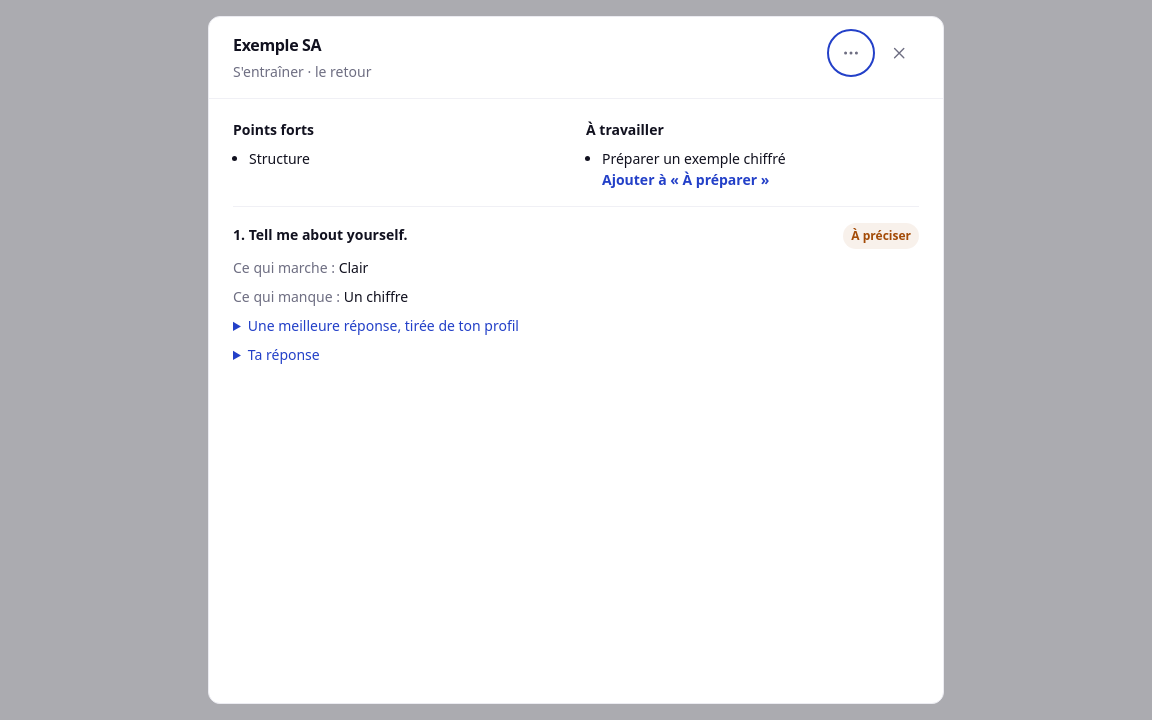
Test: InterviewPractice › le retour : repères, meilleure réponse, « Ajouter à À préparer »
The width and height of the screenshot is (1152, 720).
Expected: the element with test id "practice-question" shows "1. Tell me about yourself.", [233,225,408,244]
Expected: the text with test id "practice-level" reads "À préciser", [851,227,911,244]
Click the button with test id "practice-add-prepare": [686, 180] box [602,169,769,190]
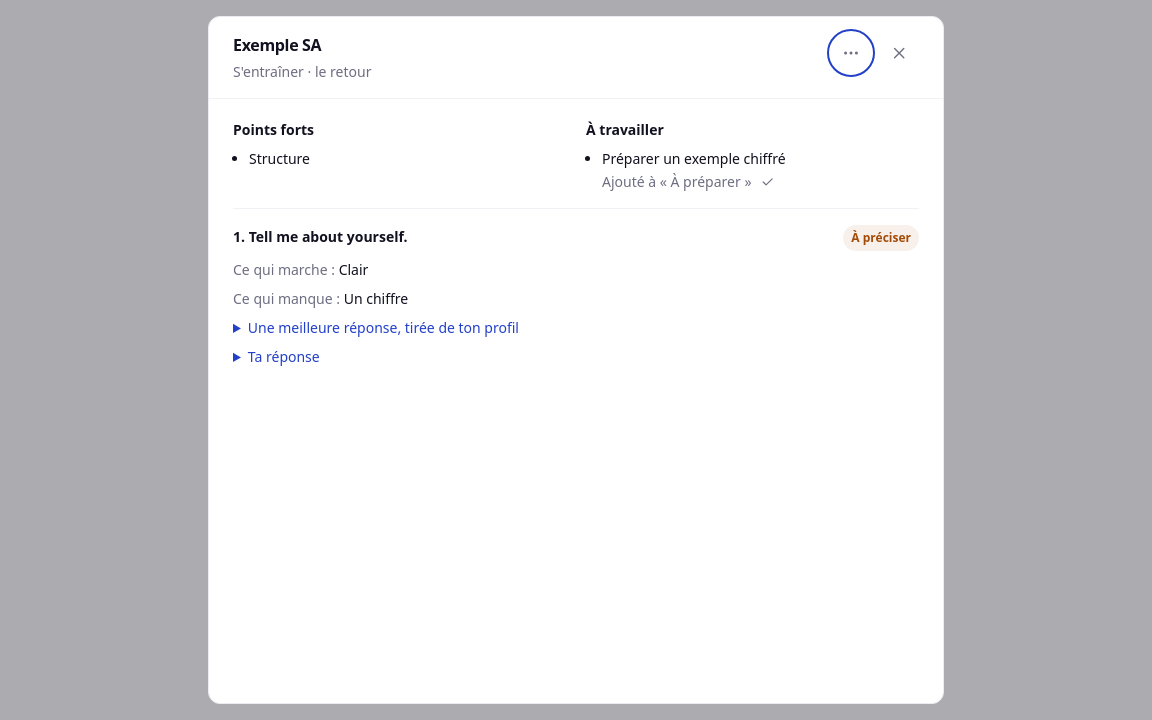
Expected: the element with test id "practice-added" reads "Ajouté à « À préparer »", [602,172,752,191]
Expected: the icon next to "Ajouté à « À préparer »" is shown, [760,174,775,189]
